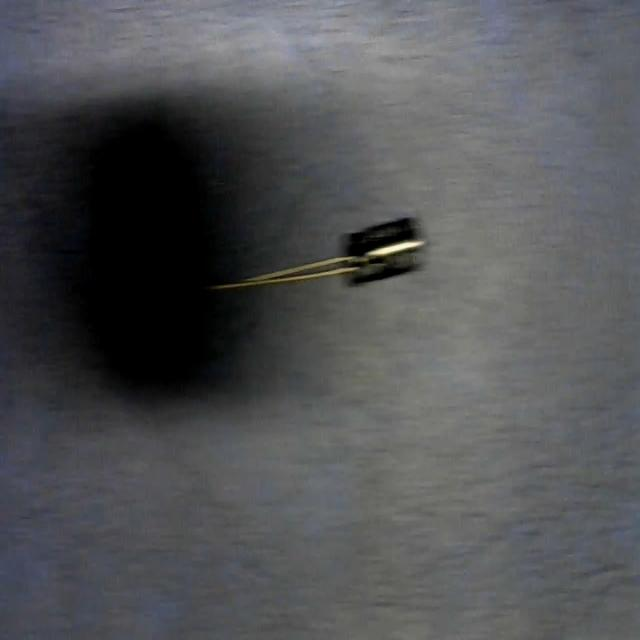capacitor: (192, 215, 424, 303)
